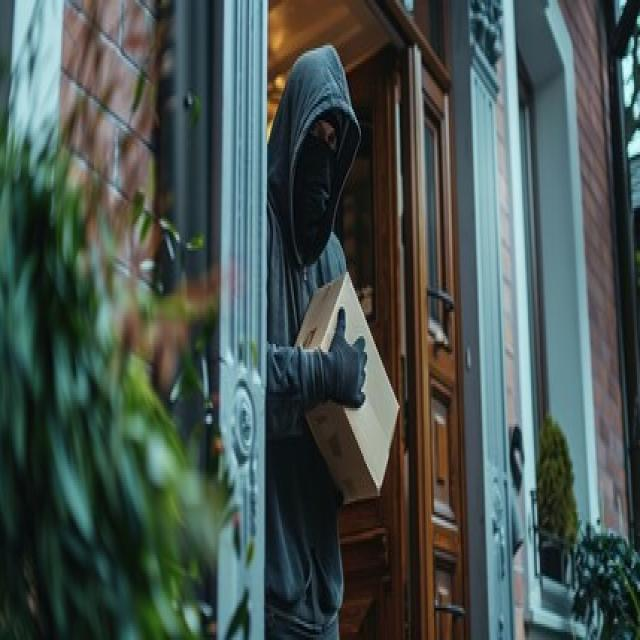person-with-mask: (198, 37, 420, 640)
